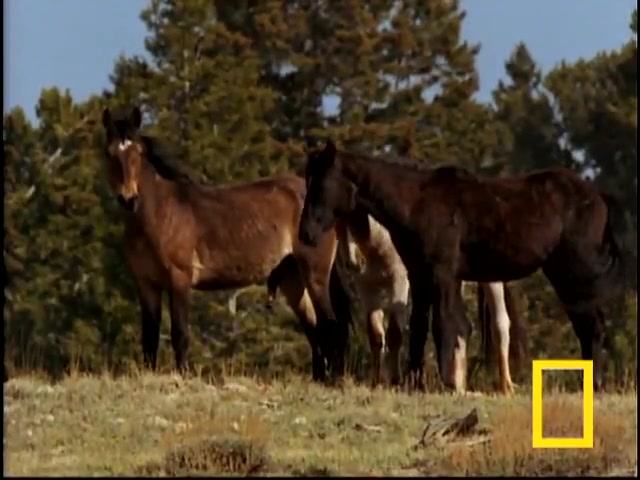horse: (299, 144, 609, 395)
